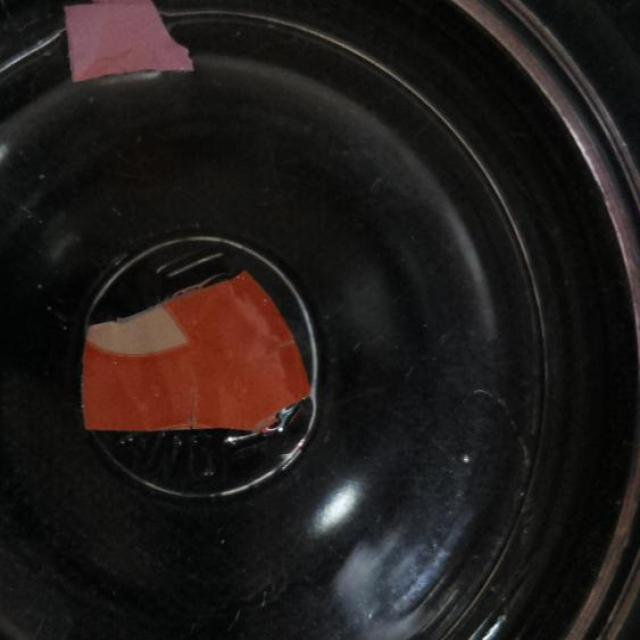fiber: (81, 262, 311, 449), (61, 0, 192, 85)
